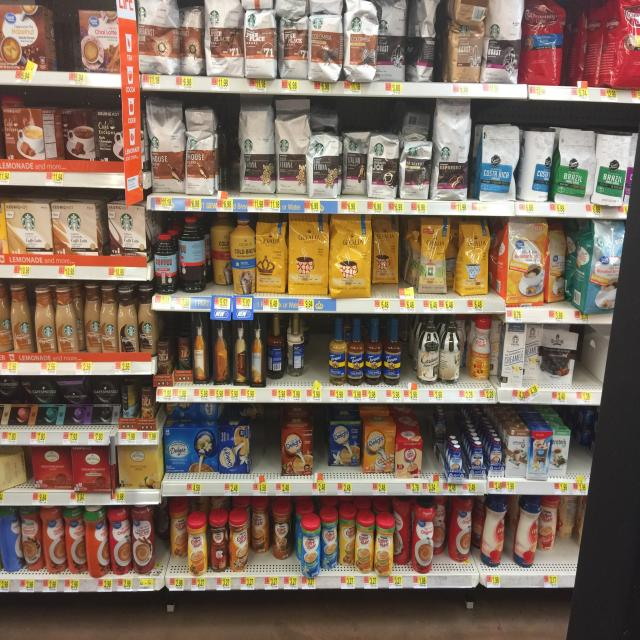unorganised: (338, 127, 373, 195), (538, 323, 576, 384), (373, 214, 402, 286), (379, 3, 406, 80), (448, 493, 475, 562), (205, 212, 231, 283), (327, 416, 362, 465), (469, 312, 494, 380), (429, 497, 451, 556), (270, 499, 290, 560), (1, 448, 28, 493), (393, 503, 412, 566), (170, 500, 190, 558), (269, 312, 286, 380), (249, 501, 270, 552), (538, 494, 556, 549), (557, 492, 576, 537)
